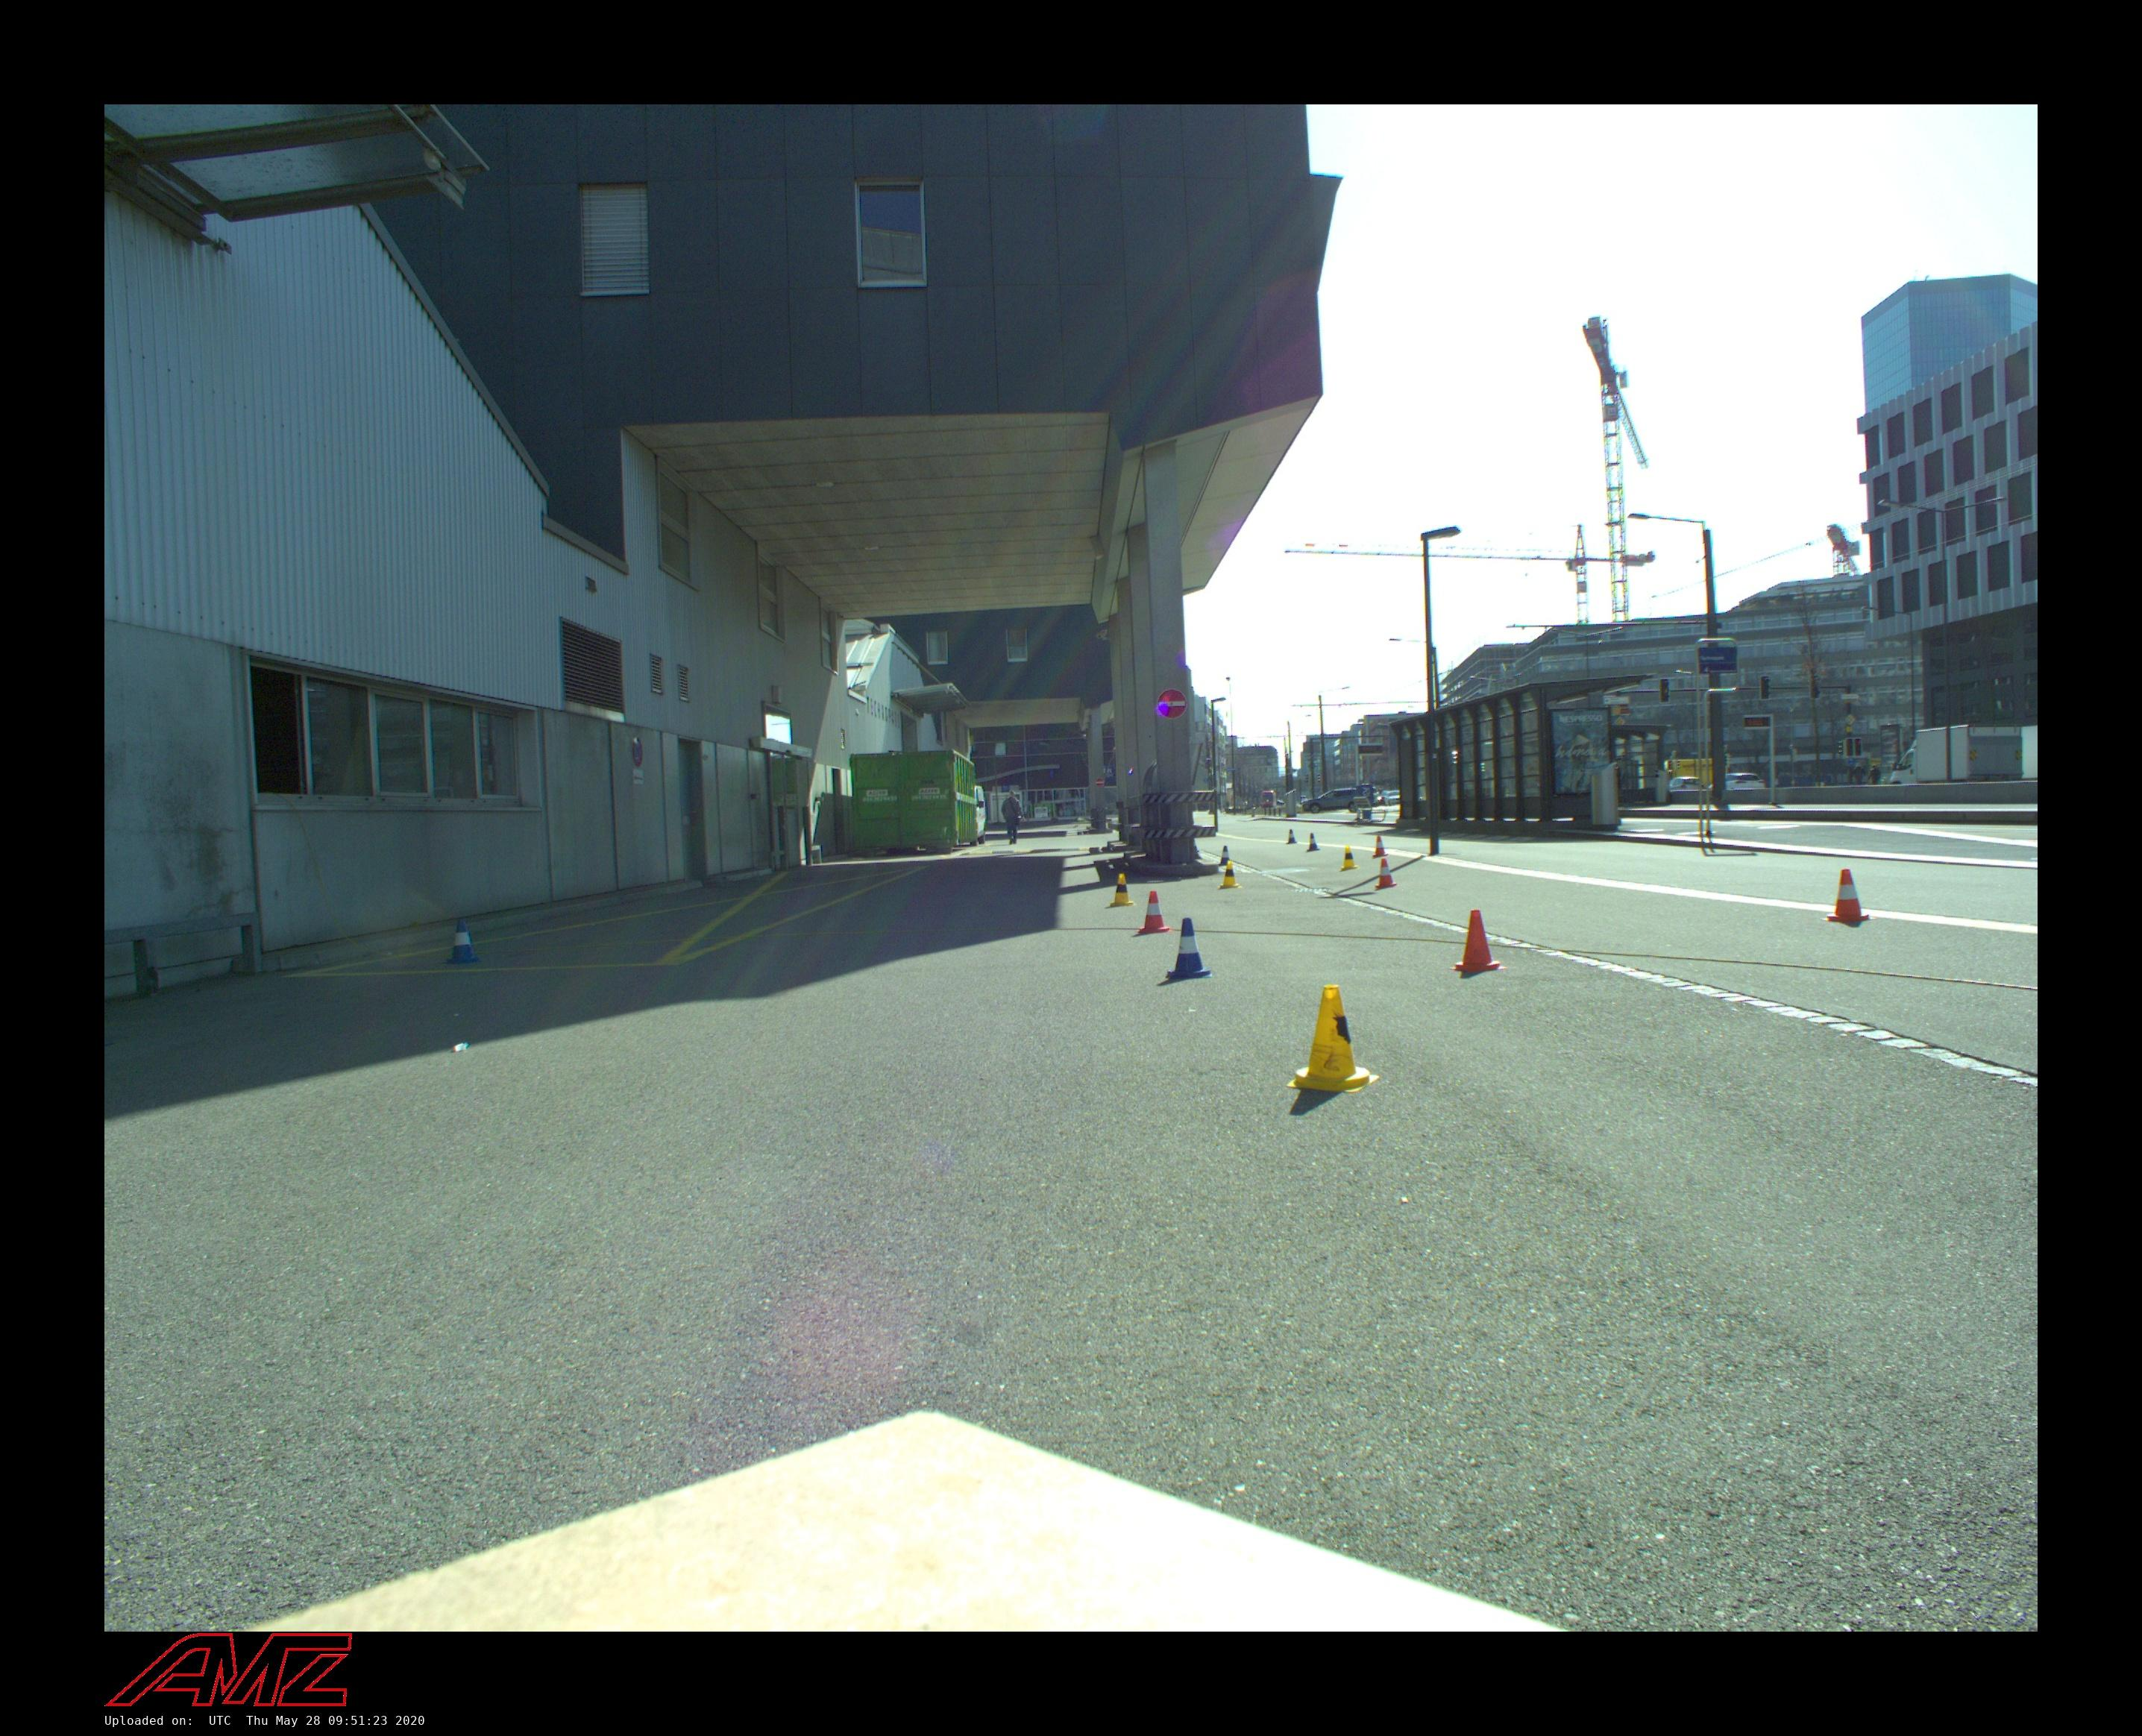blue_cone: (1168, 918, 1212, 978), (446, 919, 480, 964), (1308, 833, 1320, 852), (1219, 845, 1231, 864), (1286, 829, 1297, 845)
orange_cone: (1453, 909, 1501, 971), (1827, 868, 1869, 921), (1139, 891, 1169, 934), (1375, 859, 1396, 887), (1373, 836, 1387, 857)
yellow_cone: (1286, 983, 1380, 1095), (1111, 873, 1134, 907), (1221, 861, 1240, 889), (1339, 845, 1359, 870)
